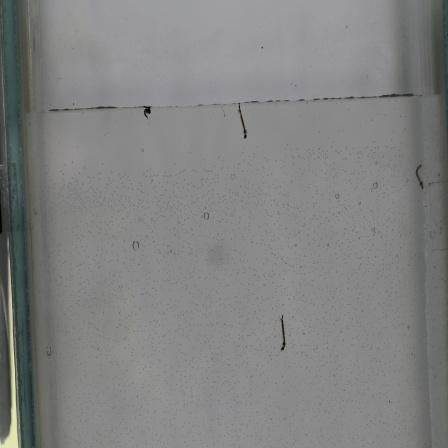Jentik-Nyamuk: (235, 100, 251, 142), (409, 160, 427, 194), (275, 311, 287, 355), (140, 105, 155, 125)
